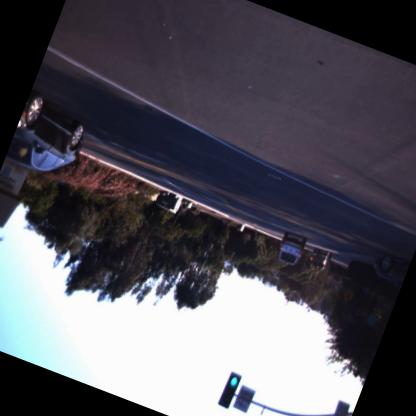trafficlight: (214, 368, 244, 412)
